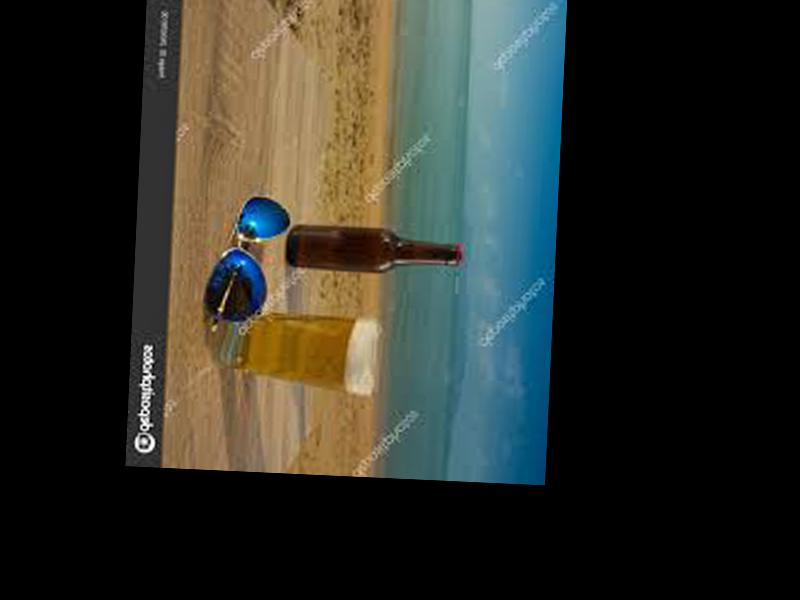Beer: (287, 223, 464, 276)
